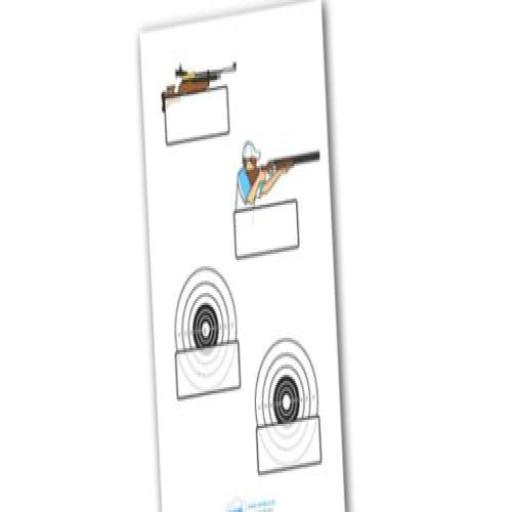shooting: (231, 135, 293, 219)
